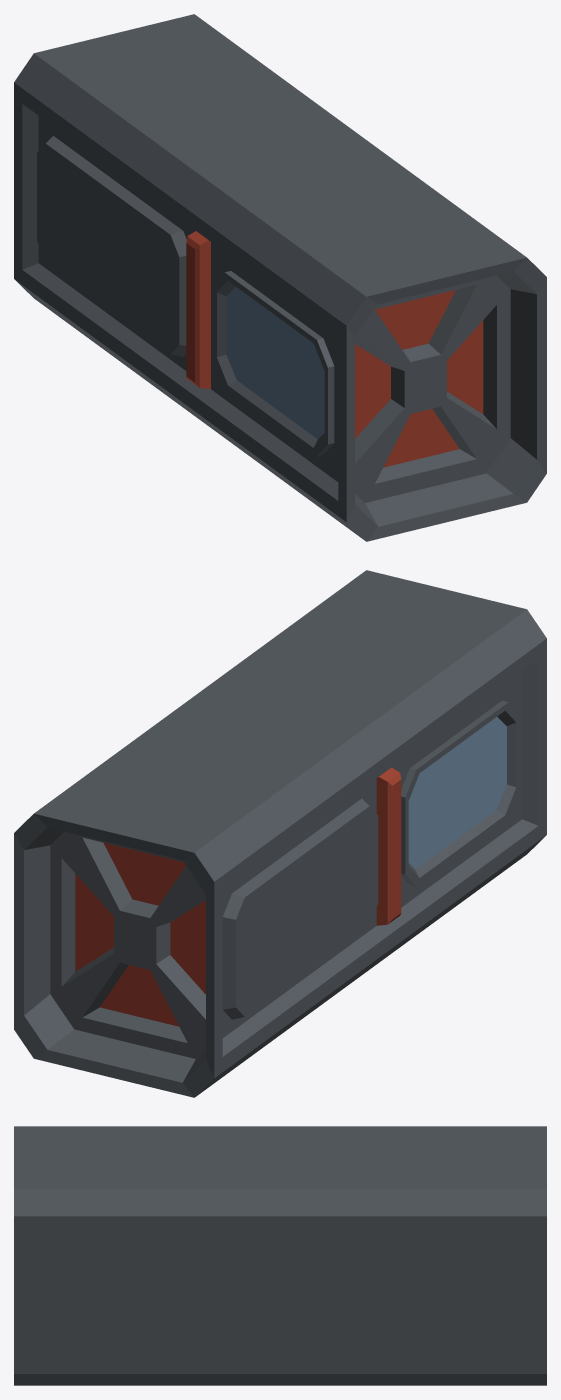
Rendered from Dropship_01_Right_Compartment_Red.fbx.
3 renders of one model, top to bottom at view 1: azimuth 30°, elevation 25°; view 2: azimuth 150°, elevation 25°; view 3: azimuth 270°, elevation 25°, orthographic. The views are drawn at different scales.
Parts seen in each view (by area): view 1: Dropship_01_Right_Compartment_Red; view 2: Dropship_01_Right_Compartment_Red; view 3: Dropship_01_Right_Compartment_Red.
Boxes of the visible parts, left/top/right/bottom form: Dropship_01_Right_Compartment_Red: left=14, top=14, right=546, bottom=541; Dropship_01_Right_Compartment_Red: left=14, top=570, right=546, bottom=1097; Dropship_01_Right_Compartment_Red: left=14, top=1126, right=546, bottom=1385.
Bounding box in the file's own units: 259 × 298 × 734.
Materials: 2 (2 with a texture image).
